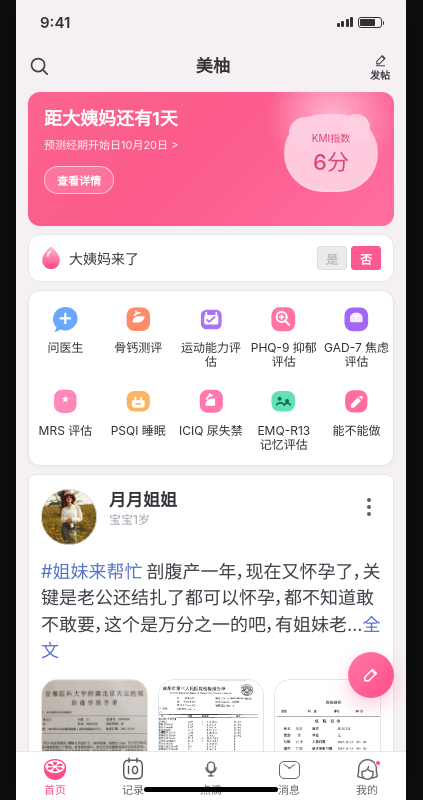
additional assessment entries › navigates to mrs from the home services grid
Click the button "MRS 评估". click: (65, 416)
box: [29,380,102,452]
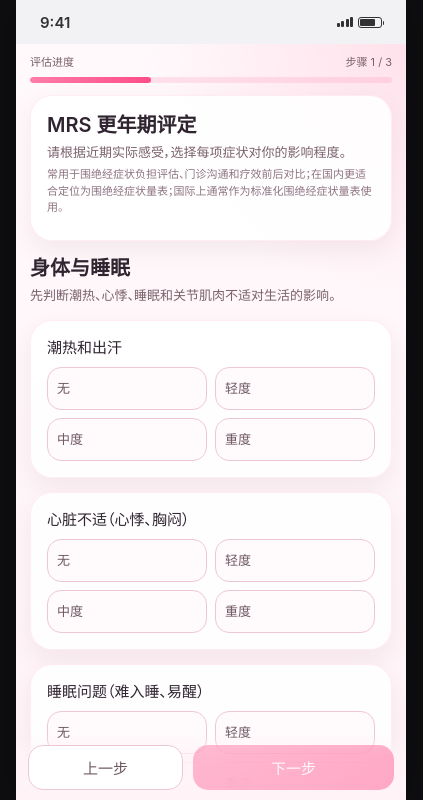
expect the element with test id "scene1-mrs-assessment-route-shell" is shown: met
